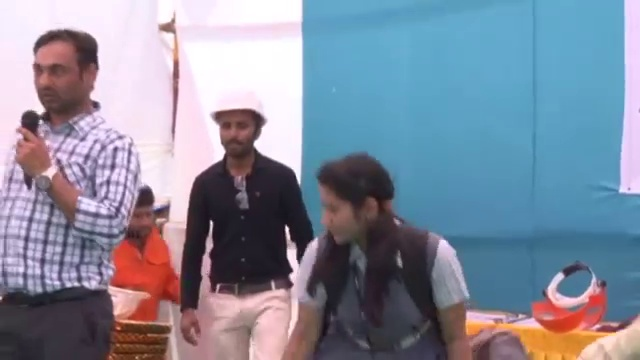helmet: (208, 84, 270, 131), (103, 285, 151, 326)
helmet_off: (308, 161, 403, 237), (28, 30, 103, 117), (125, 186, 159, 248)
helmet_on: (208, 87, 269, 161)
person: (0, 31, 135, 359), (292, 158, 480, 360), (180, 81, 316, 360), (103, 186, 185, 325)
